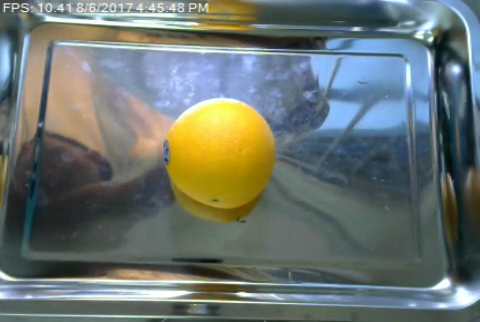Orange: (163, 96, 276, 210)
